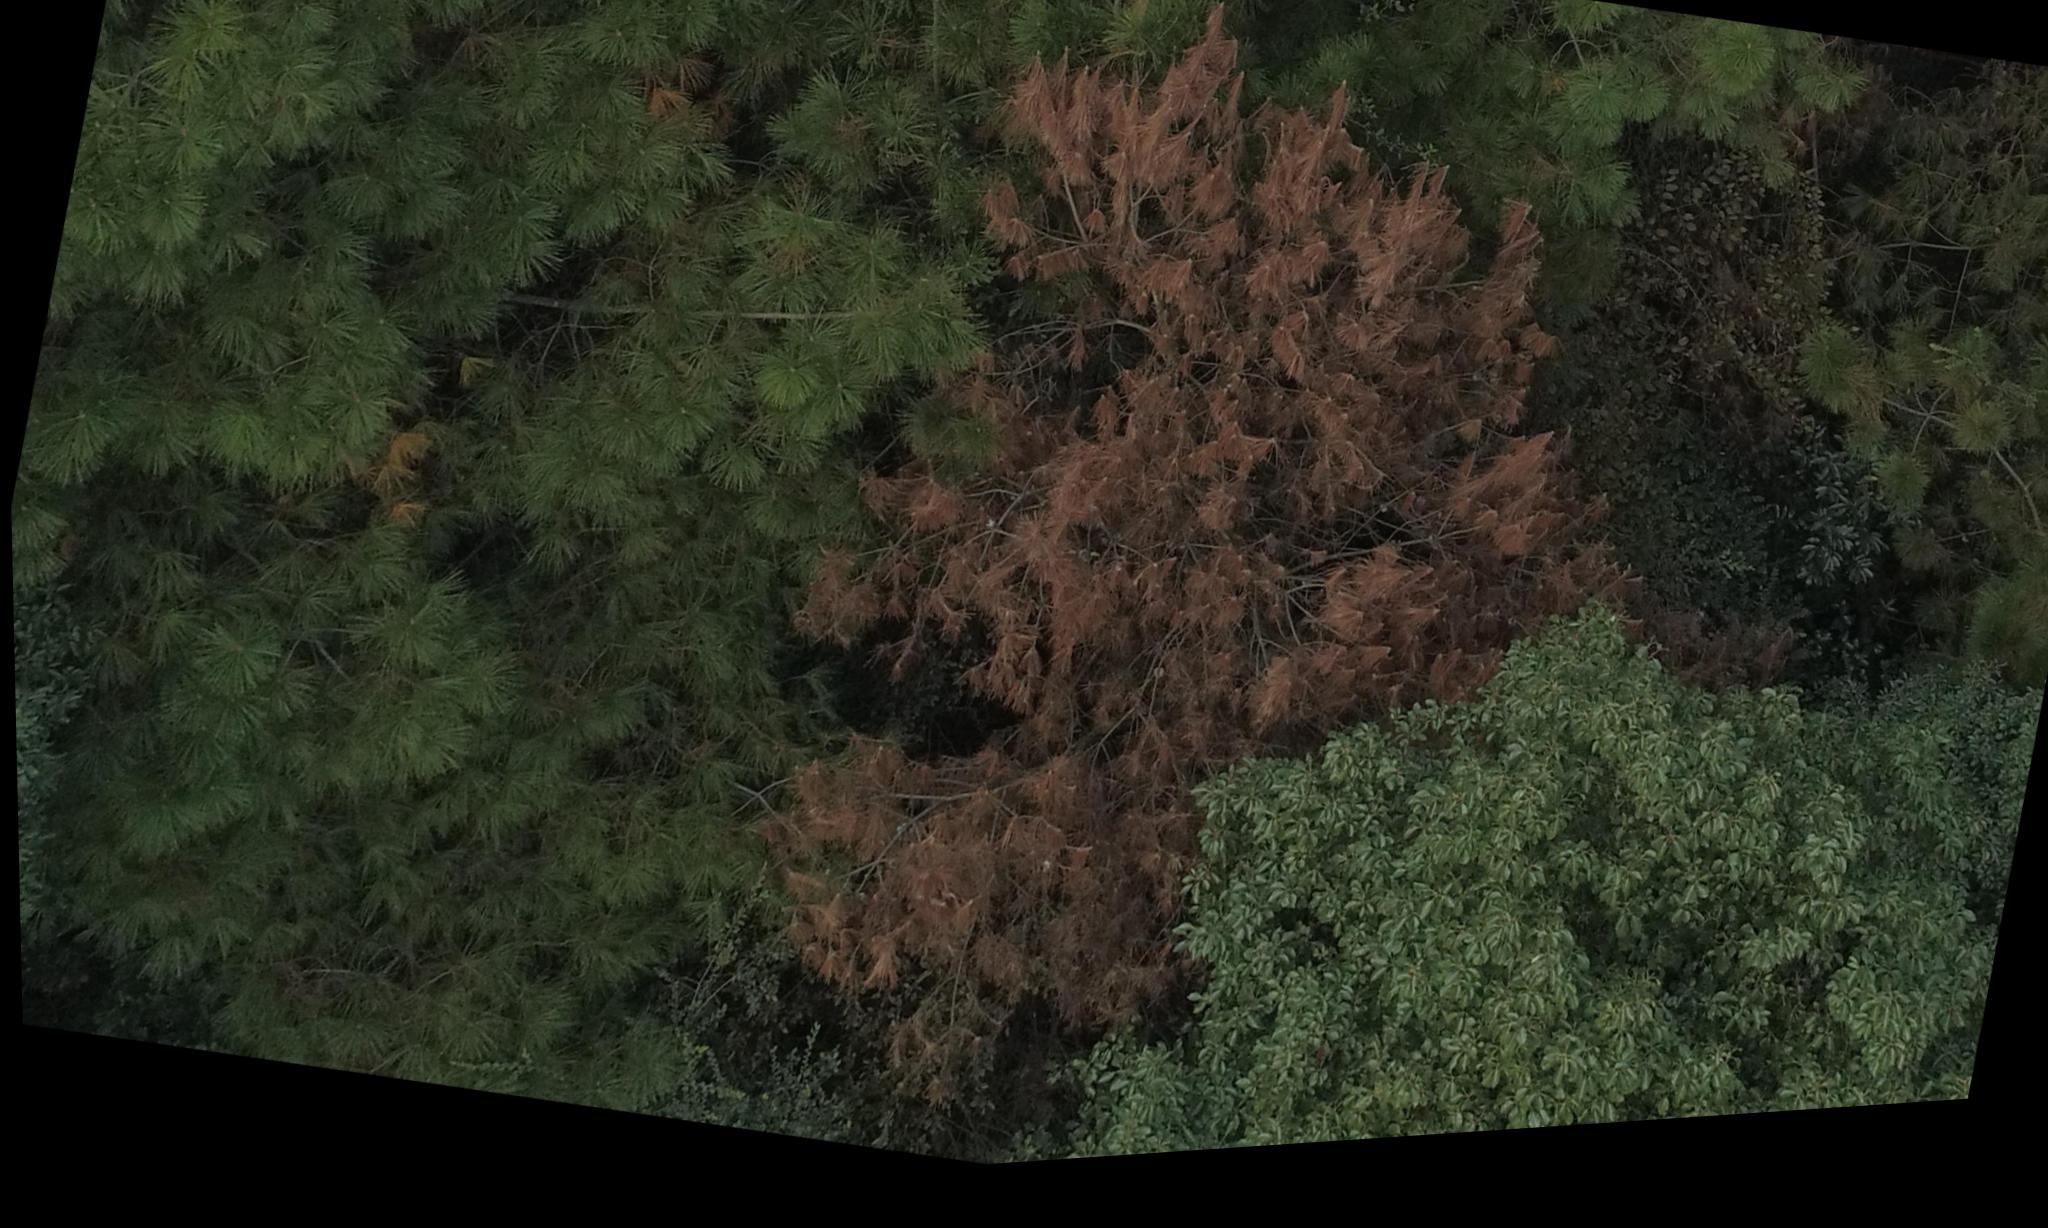heavy: (691, 0, 1780, 1191)
